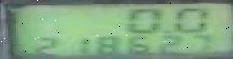-: (157, 26, 167, 32)
0: (170, 6, 205, 31), (124, 6, 157, 31)
1: (74, 35, 89, 54)
2: (152, 33, 180, 54), (30, 35, 56, 54)
6: (122, 34, 150, 54)
7: (188, 33, 213, 53)
8: (94, 35, 117, 54)
